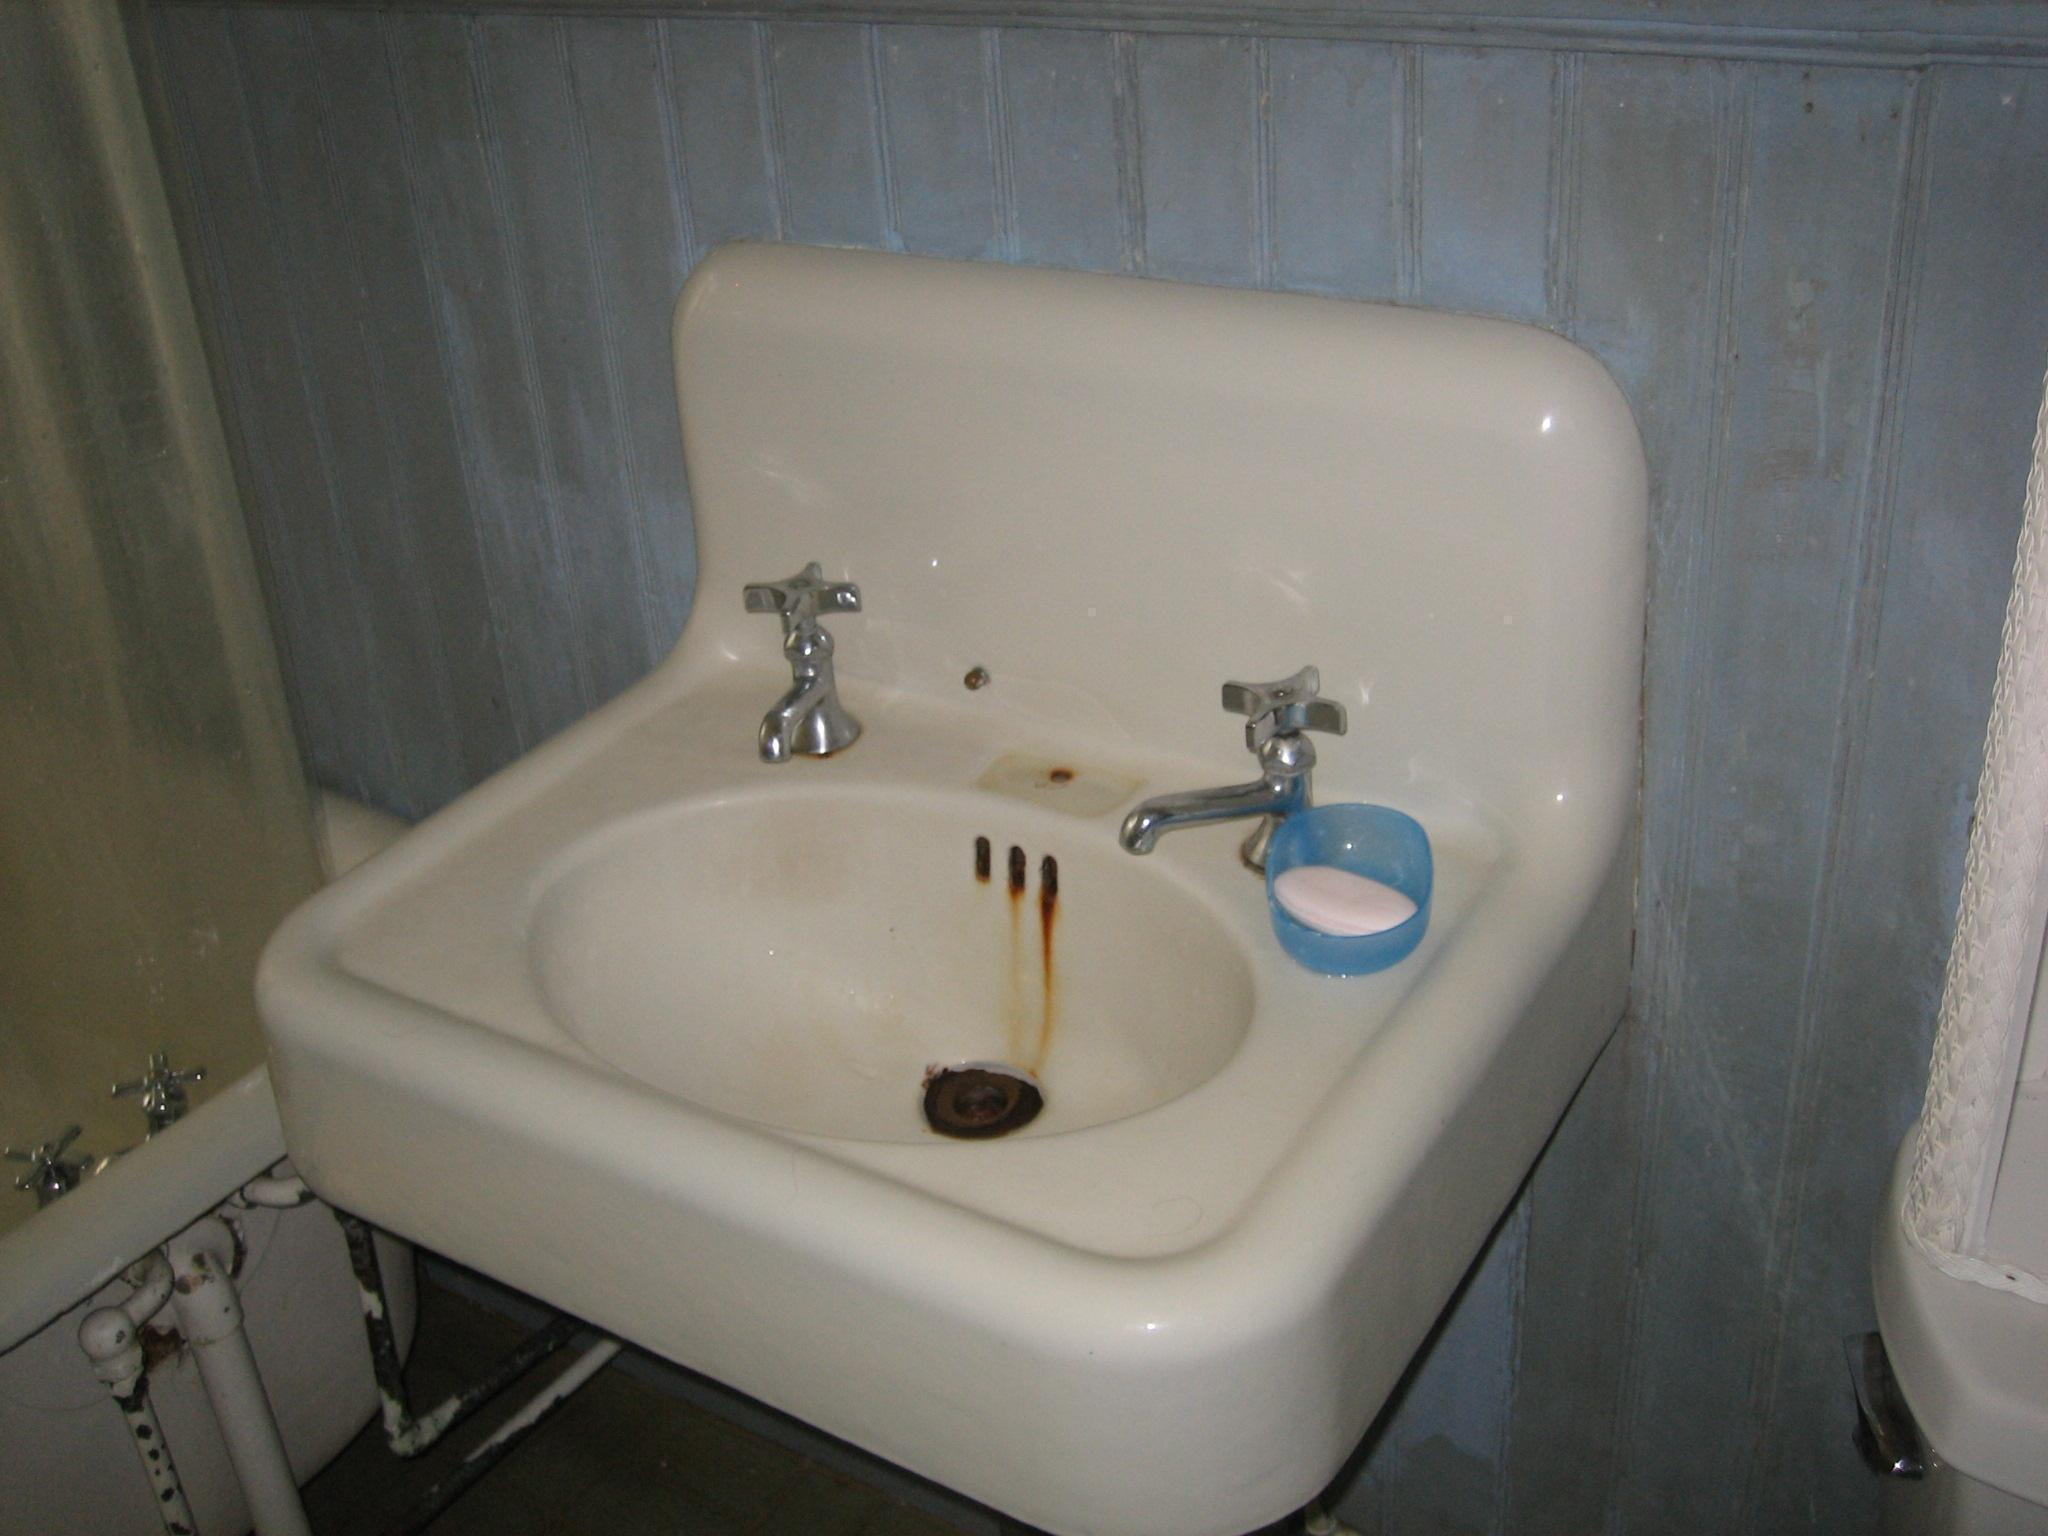Lavamanos: (269, 276, 1796, 1413)
